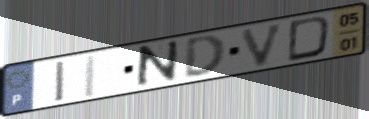D: (285, 14, 334, 64), (182, 33, 229, 80)
I: (81, 52, 100, 100), (54, 58, 67, 104)
N: (133, 37, 181, 91)
V: (239, 20, 288, 69)
